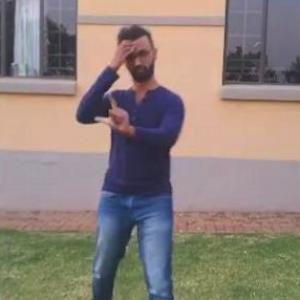land_hand: (92, 84, 136, 139)
